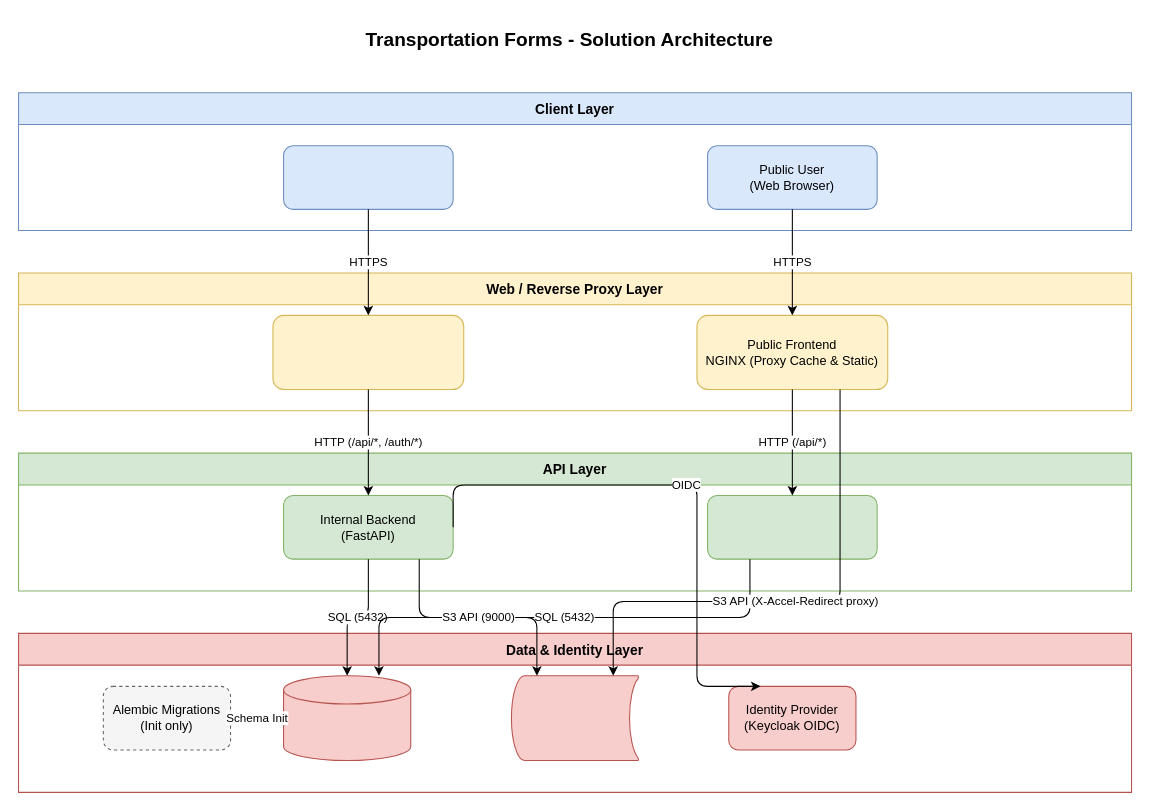
Image size: 1150x811. Some labels were removed from this diagram. The shapes that lost their labels are listed below. From the top down, each one's centre as x and y in pixels, then its label:
pixel 367 177: Admin / Internal User (Web Browser)
pixel 368 352: Internal Frontend Caddy + Coraza WAF
pixel 791 526: Public Backend (FastAPI)
pixel 346 718: Relational Database (PostgreSQL)
pixel 574 718: Object Store (MinIO / S3)
